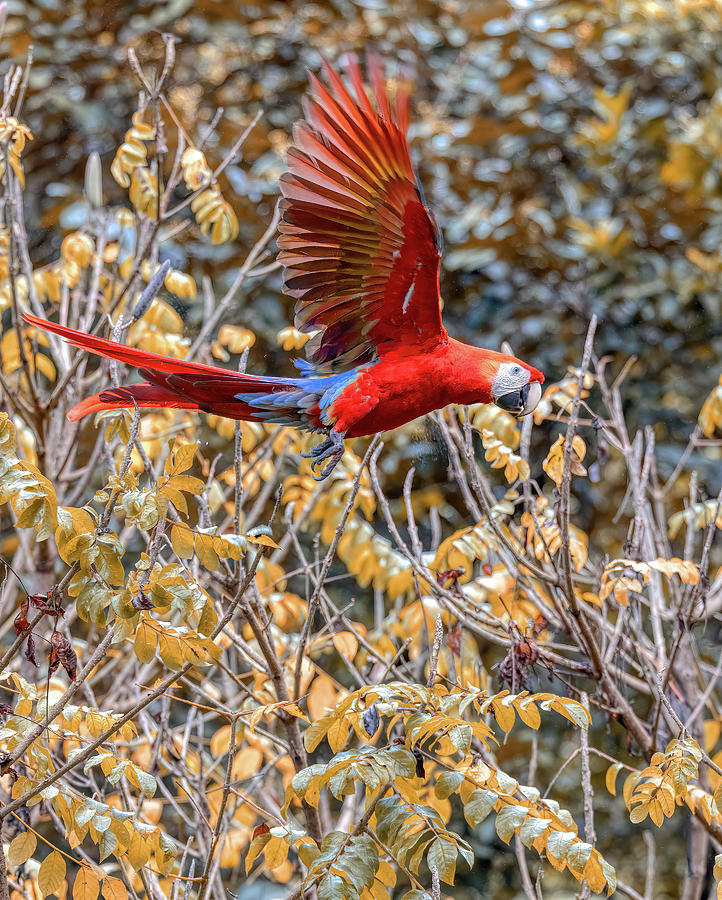Lapa: (38, 33, 618, 513)
